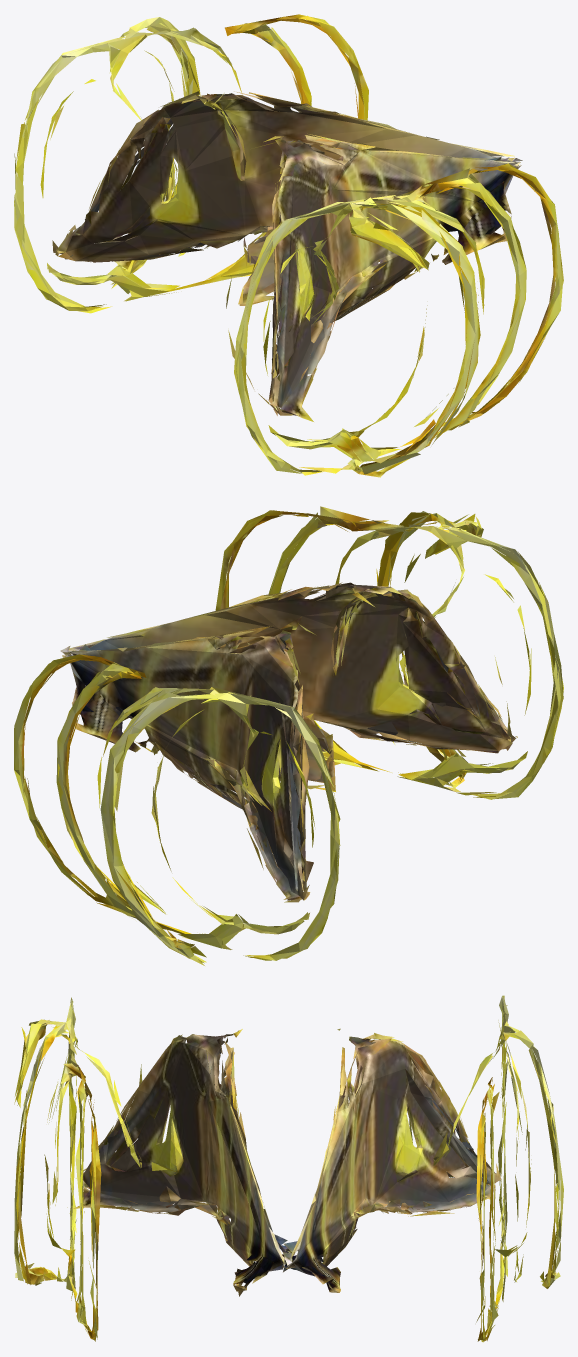
The model's file is sonic_impactor.glb.
3 views of the same model, one above another, from view 1: azimuth 30°, elevation 25°; view 2: azimuth 150°, elevation 25°; view 3: azimuth 270°, elevation 25° (orthographic). The views are drawn at different scales.
Visible parts, largest first — view 1: geometry_0; view 2: geometry_0; view 3: geometry_0.
Boxes of the visible parts, x1,y1,x2,y2 form: geometry_0: (14,14,563,477); geometry_0: (14,506,563,965); geometry_0: (14,995,563,1342).
Bounding box in the file's own units: 1.63 × 1.05 × 2.01.
Materials: 1 (1 with a texture image).
